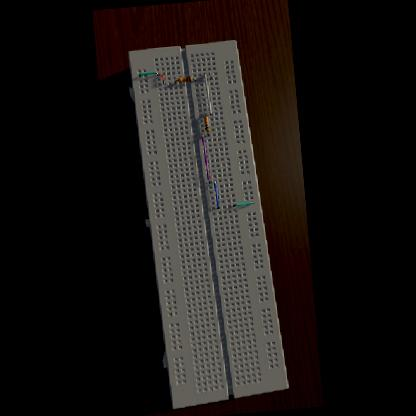breadboard: (126, 37, 290, 409)
resistor: (178, 75, 192, 82), (204, 116, 210, 130)
wire: (202, 134, 210, 182), (204, 72, 212, 115), (214, 180, 220, 208), (233, 200, 254, 206), (140, 70, 158, 76), (162, 72, 165, 84), (210, 72, 212, 80), (194, 78, 196, 81), (176, 80, 178, 82), (206, 114, 206, 116)
